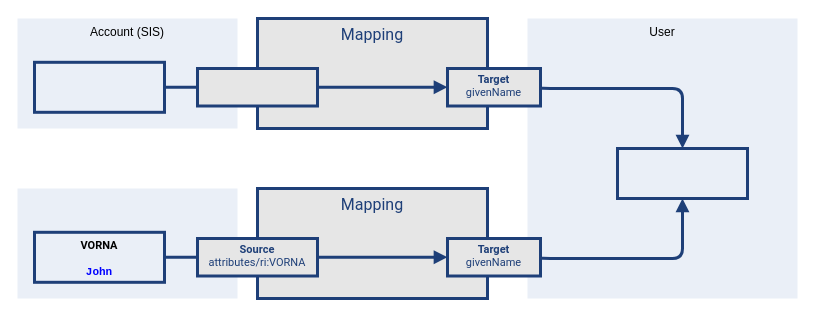
Some shapes in this 814 by 317 pixel diagram are drawn without their labels. Each missing label, with the box of its shape:
Account (HR): (17, 188, 237, 298)
firstName Ian: (32, 60, 166, 113)
givenName ???: (616, 146, 748, 200)
Source attributes/ri:firstName: (196, 66, 318, 107)
